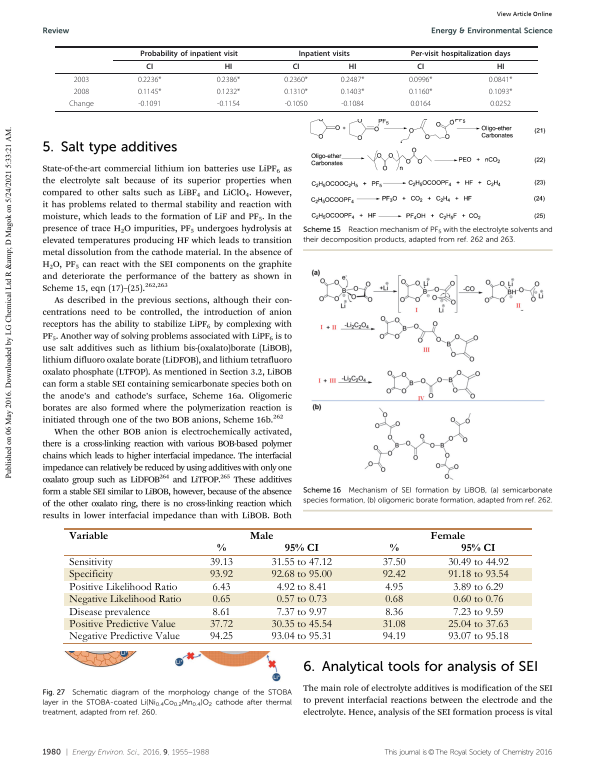borderless: (64, 526, 532, 643), (55, 45, 538, 111)
cell: (68, 594, 182, 606), (68, 631, 180, 643), (68, 581, 178, 593), (68, 619, 176, 631), (68, 606, 150, 618), (410, 49, 511, 58), (139, 49, 239, 58), (270, 557, 332, 569), (447, 557, 509, 569), (270, 569, 332, 581), (447, 569, 509, 581), (270, 619, 332, 631), (447, 619, 509, 631), (270, 631, 332, 643), (447, 631, 509, 643), (275, 581, 327, 593), (452, 581, 504, 593), (275, 594, 327, 606), (452, 594, 504, 606), (275, 606, 327, 618), (452, 606, 504, 618), (68, 557, 113, 569), (68, 569, 113, 581), (298, 49, 351, 58), (68, 530, 109, 540), (429, 530, 465, 540), (283, 543, 319, 552), (460, 543, 496, 552), (208, 557, 233, 569), (381, 557, 406, 569), (208, 569, 233, 581), (381, 569, 406, 581), (208, 619, 233, 631), (381, 619, 406, 631), (208, 631, 233, 643), (381, 631, 406, 643), (68, 99, 95, 109), (248, 530, 274, 540), (283, 75, 309, 85), (283, 87, 309, 97), (137, 75, 162, 85), (216, 75, 241, 85), (340, 75, 365, 85), (408, 75, 433, 85), (488, 75, 513, 85), (137, 87, 162, 97), (216, 87, 241, 97), (340, 87, 365, 97), (408, 87, 433, 97), (488, 87, 513, 97), (137, 99, 162, 109), (216, 99, 241, 109), (340, 99, 365, 109), (211, 581, 231, 593), (211, 594, 231, 606), (211, 606, 231, 618), (284, 99, 308, 109), (409, 99, 432, 109), (489, 99, 512, 109), (384, 581, 403, 593), (384, 594, 403, 606), (384, 606, 403, 618), (73, 75, 90, 85), (73, 87, 90, 97), (215, 543, 226, 552), (388, 543, 399, 552), (145, 62, 154, 72), (224, 62, 233, 72), (348, 62, 357, 72), (416, 62, 425, 72), (496, 62, 505, 72), (292, 62, 300, 72)
